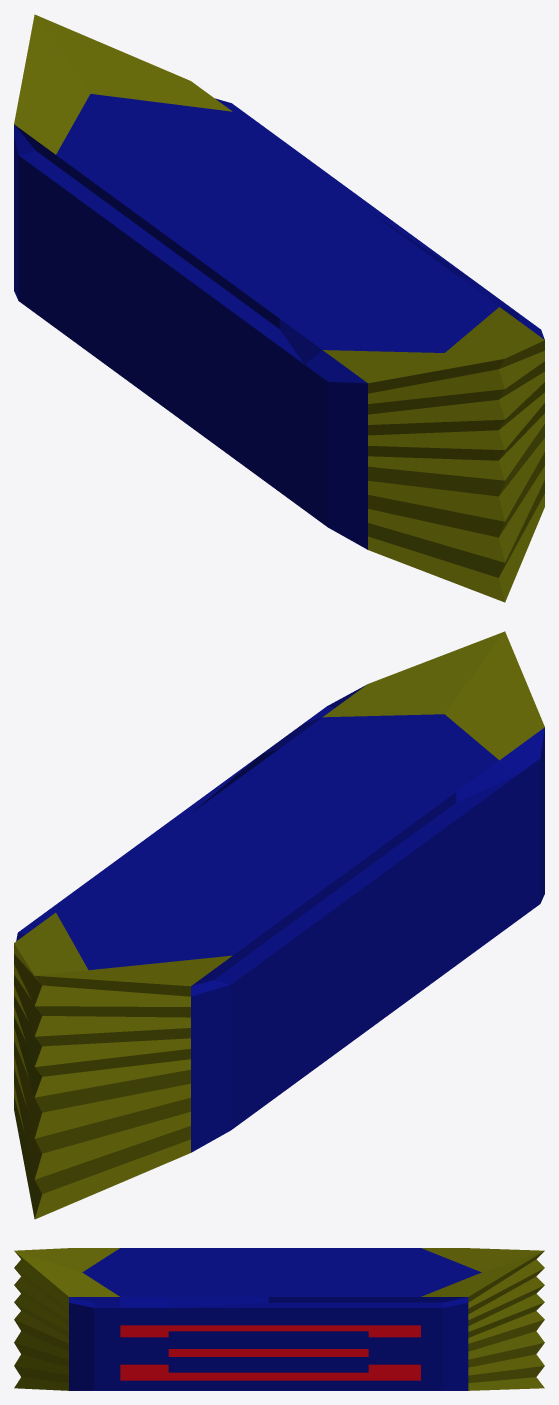
File: food 1.fbx
3 views of the same model, one above another, from view 1: azimuth 30°, elevation 25°; view 2: azimuth 150°, elevation 25°; view 3: azimuth 270°, elevation 25° (orthographic). The views are drawn at different scales.
Parts seen in each view (by area): view 1: Cube; view 2: Cube; view 3: Cube.
Part boxes in pixels (<box>): Cube: <box>14,14,544,602</box>; Cube: <box>14,631,544,1219</box>; Cube: <box>14,1248,544,1390</box>.
Bounding box in the file's own units: 69.58 × 76.01 × 266.
